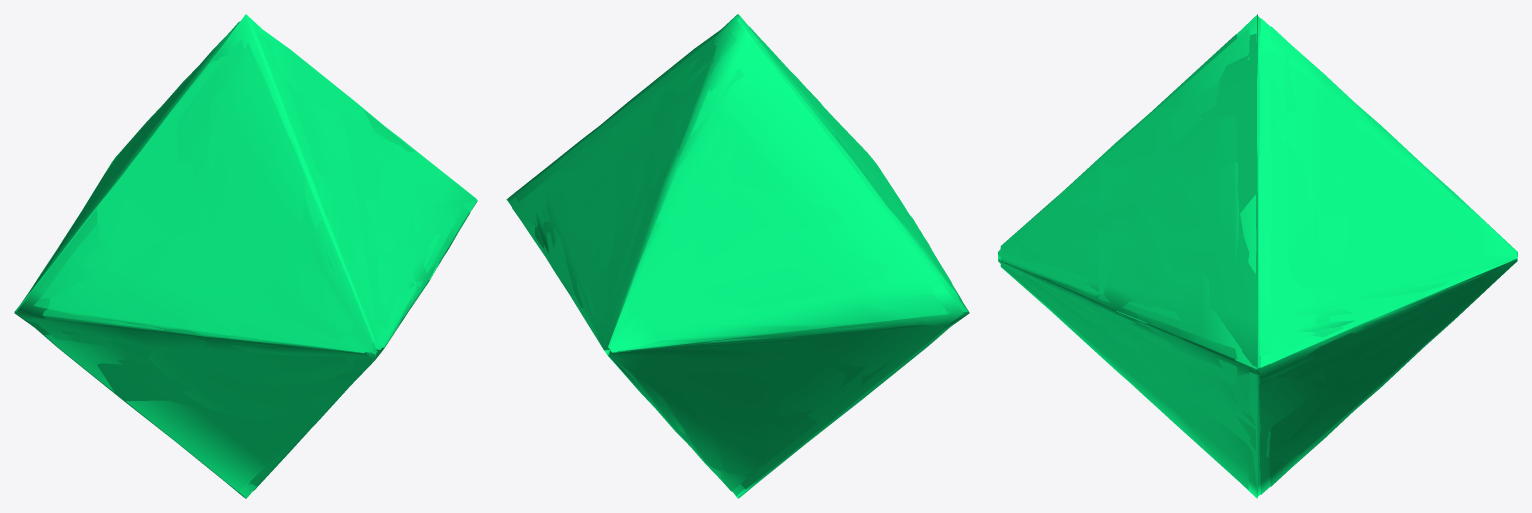
File: supertoroid_solid_fallback_1768349648836.glb
3 renders of one model, left to right at view 1: azimuth 30°, elevation 25°; view 2: azimuth 150°, elevation 25°; view 3: azimuth 270°, elevation 25°, orthographic.
Parts seen in each view (by area): view 1: MathShape; view 2: MathShape; view 3: MathShape.
Part boxes in pixels (x1,y1,x2,y2): MathShape: (14,14,477,498); MathShape: (506,14,969,498); MathShape: (998,14,1517,498).
Size of the model in its own units: 105 by 105 by 102.
